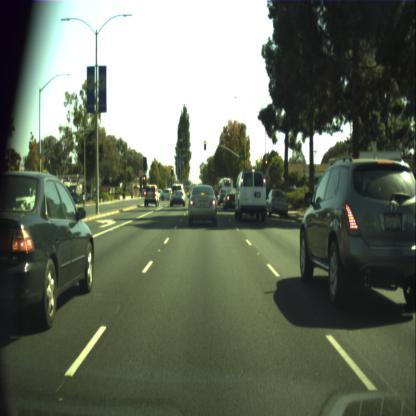Red: (171, 166, 173, 176), (204, 140, 206, 150), (244, 167, 246, 176), (265, 161, 266, 168)
RedLeft: (143, 176, 146, 188)
